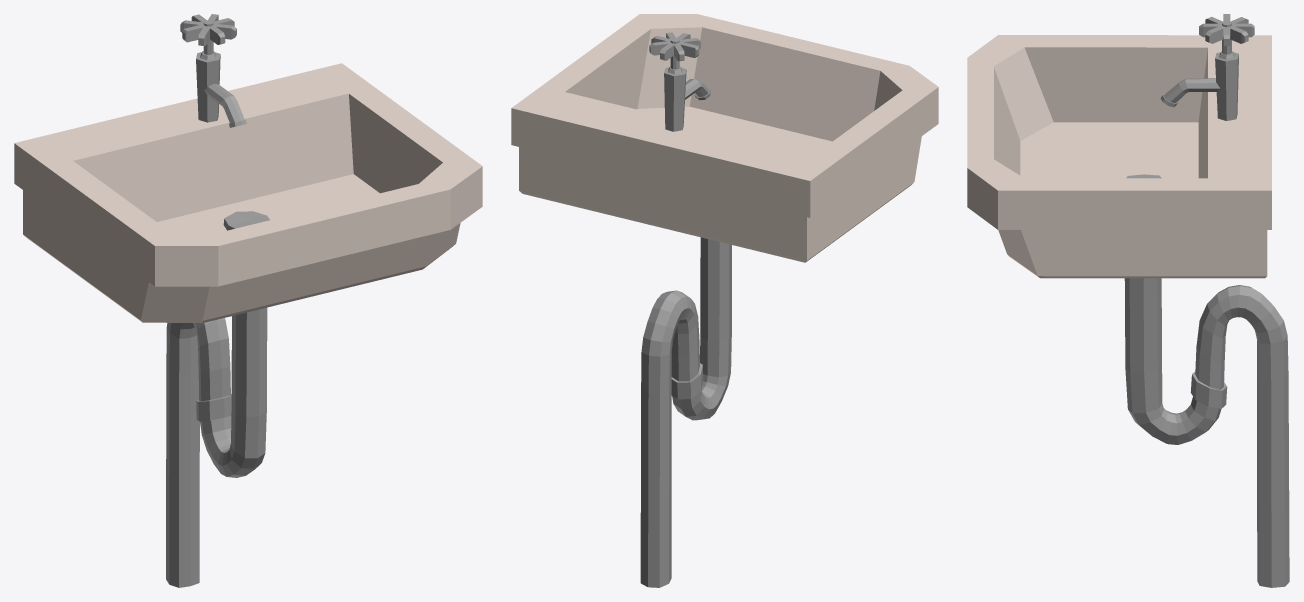
Rendered from Washbasin_1.fbx.
The picture shows the model from 3 angles, left to right: view 1: azimuth 30°, elevation 25°; view 2: azimuth 150°, elevation 25°; view 3: azimuth 270°, elevation 25°; orthographic projection. The views are drawn at different scales.
Parts seen in each view (by area): view 1: Washbasin_1; view 2: Washbasin_1; view 3: Washbasin_1.
Boxes of the visible parts, bbox=[...] form: Washbasin_1: bbox=[14, 14, 482, 587]; Washbasin_1: bbox=[511, 14, 938, 587]; Washbasin_1: bbox=[967, 14, 1289, 587].
Bounding box in the file's own units: 108 × 94.65 × 181.
